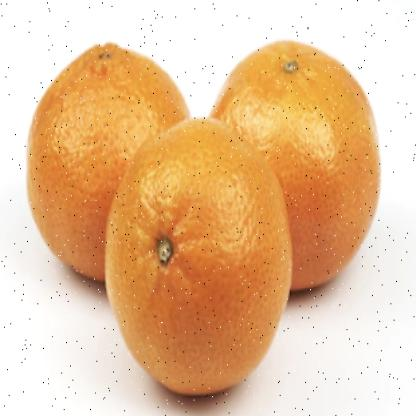fresh: (24, 43, 380, 399)
